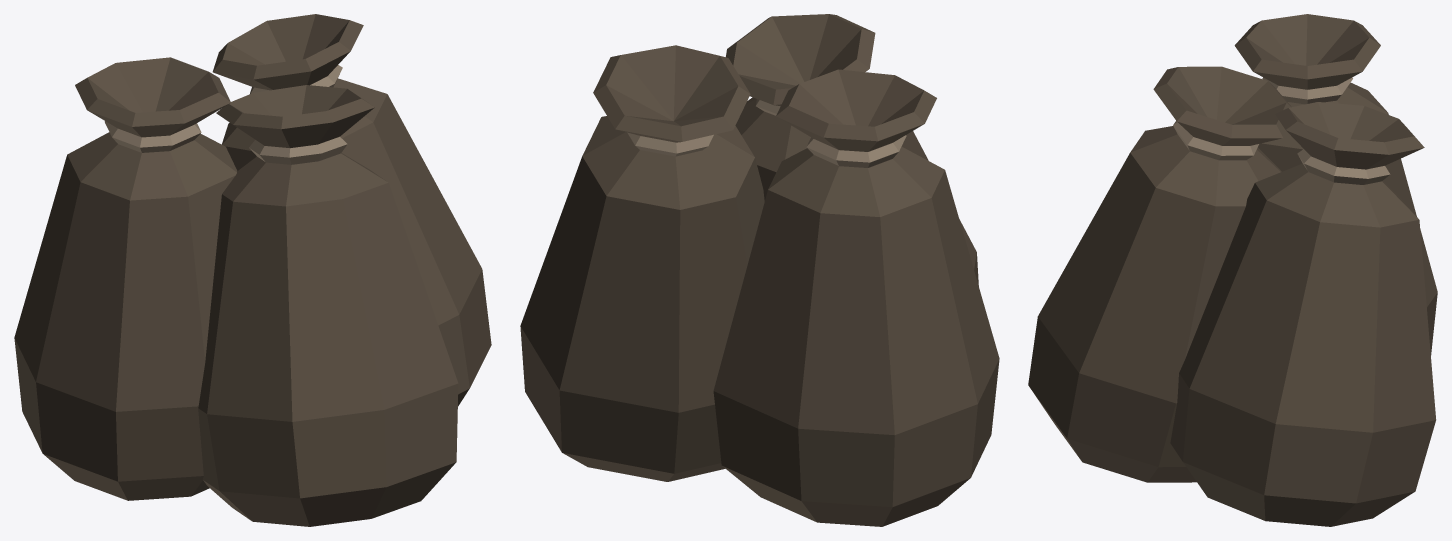
Rendered from SM_Prop_Sack_04.glb.
3 views of the same model, side by side, from view 1: azimuth 30°, elevation 25°; view 2: azimuth 150°, elevation 25°; view 3: azimuth 270°, elevation 25° (orthographic). The views are drawn at different scales.
Visible parts, largest first — view 1: SM_Prop_Sack_04; view 2: SM_Prop_Sack_04; view 3: SM_Prop_Sack_04.
Boxes of the visible parts, x1,y1,x2,y2 form: SM_Prop_Sack_04: (14,14,491,526); SM_Prop_Sack_04: (520,14,999,526); SM_Prop_Sack_04: (1028,14,1437,526).
Bounding box in the file's own units: 0.00892 × 0.00783 × 0.00761.
